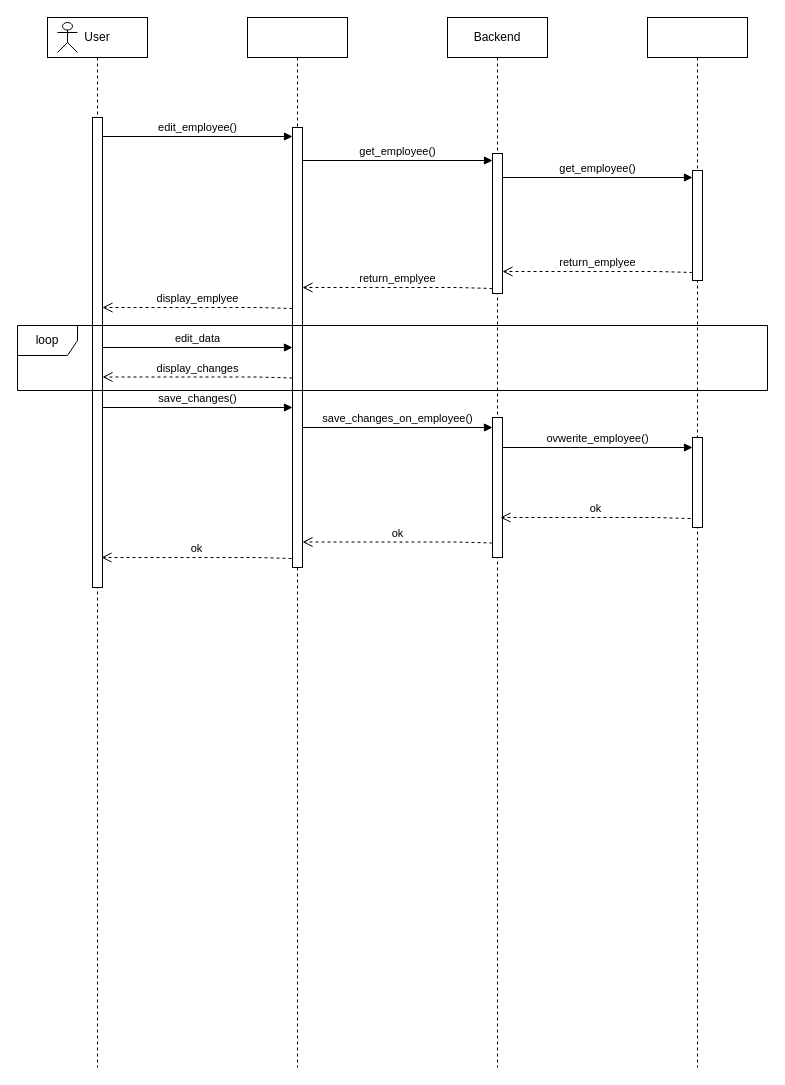
The diagram is 785 pixels wide and 1085 high, and some of its shapes have lost their labels. The centre of each missing label's shape, as x and y in pixels:
"Databáza" belongs at [697,542].
"Frontend" belongs at [297,542].
